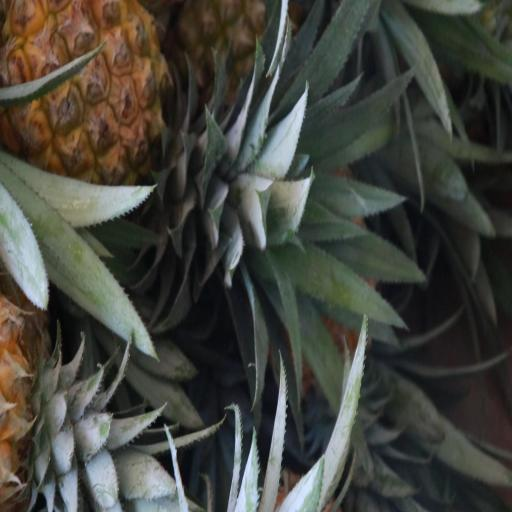Pineapple - v8 v1: (0, 0, 201, 204)
